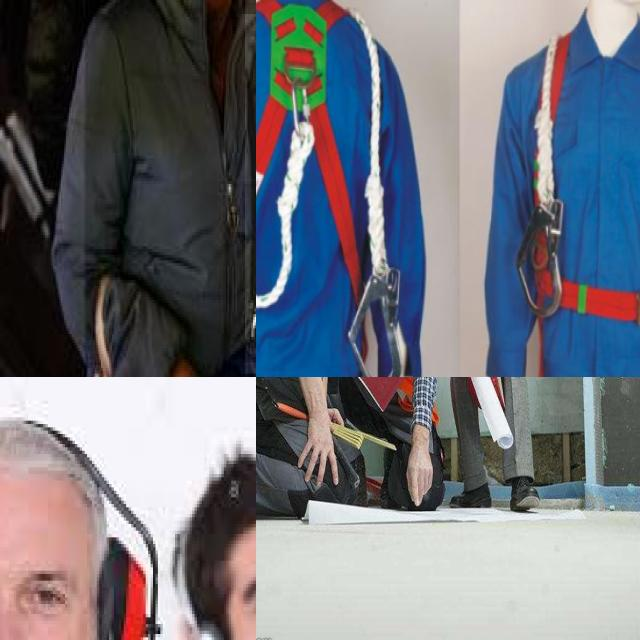Ear-protection: (87, 524, 145, 640)
Harness: (256, 0, 373, 377), (531, 33, 640, 377)
hand_noglove: (298, 410, 338, 486), (407, 423, 433, 506)
person: (85, 0, 256, 377)
